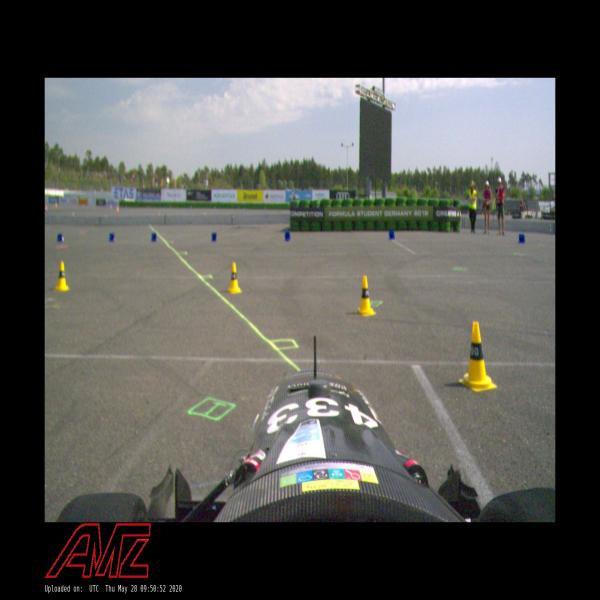yellow_cone: (458, 320, 498, 392), (356, 274, 376, 316), (54, 260, 70, 292), (226, 262, 242, 294)
